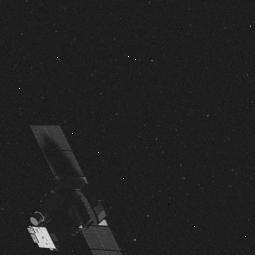soho: (15, 122, 124, 255)
